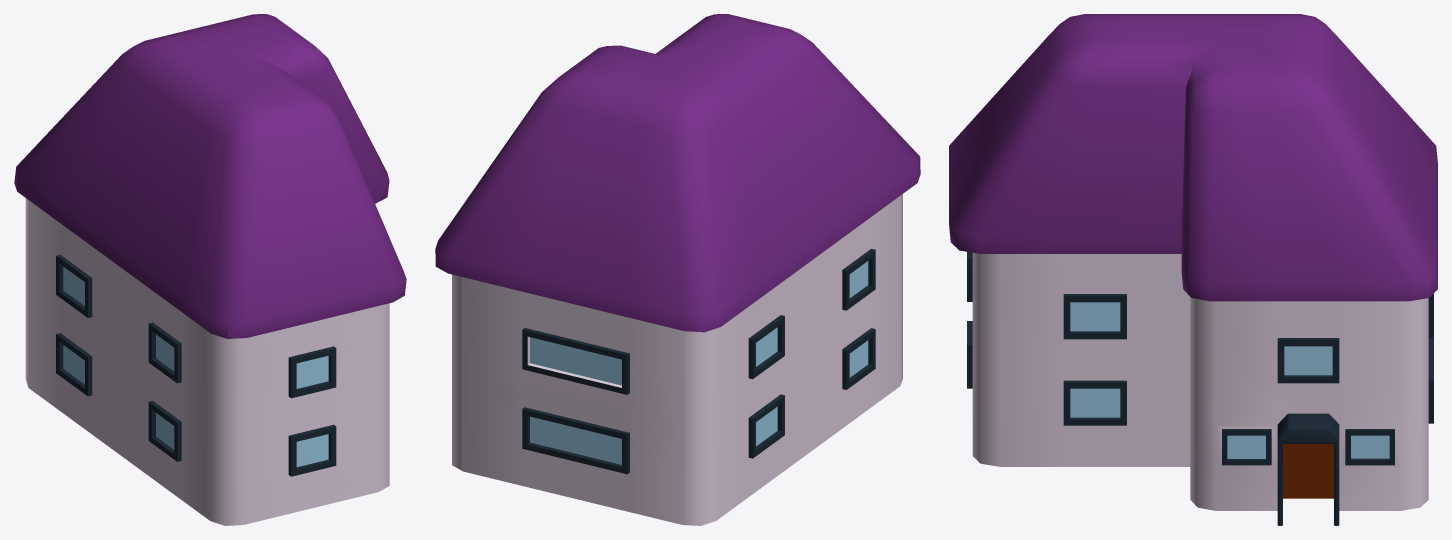
The model's file is City Street Props 03.fbx.
3 renders of one model, left to right at view 1: azimuth 30°, elevation 25°; view 2: azimuth 150°, elevation 25°; view 3: azimuth 270°, elevation 25°, orthographic. The views are drawn at different scales.
Visible parts, largest first — view 1: Cube.003; view 2: Cube.003; view 3: Cube.003.
Boxes of the visible parts, <box> form: Cube.003: <box>14,14,406,525</box>; Cube.003: <box>435,14,920,525</box>; Cube.003: <box>949,14,1437,525</box>.
Size of the model in its own units: 314 by 370 by 410.
